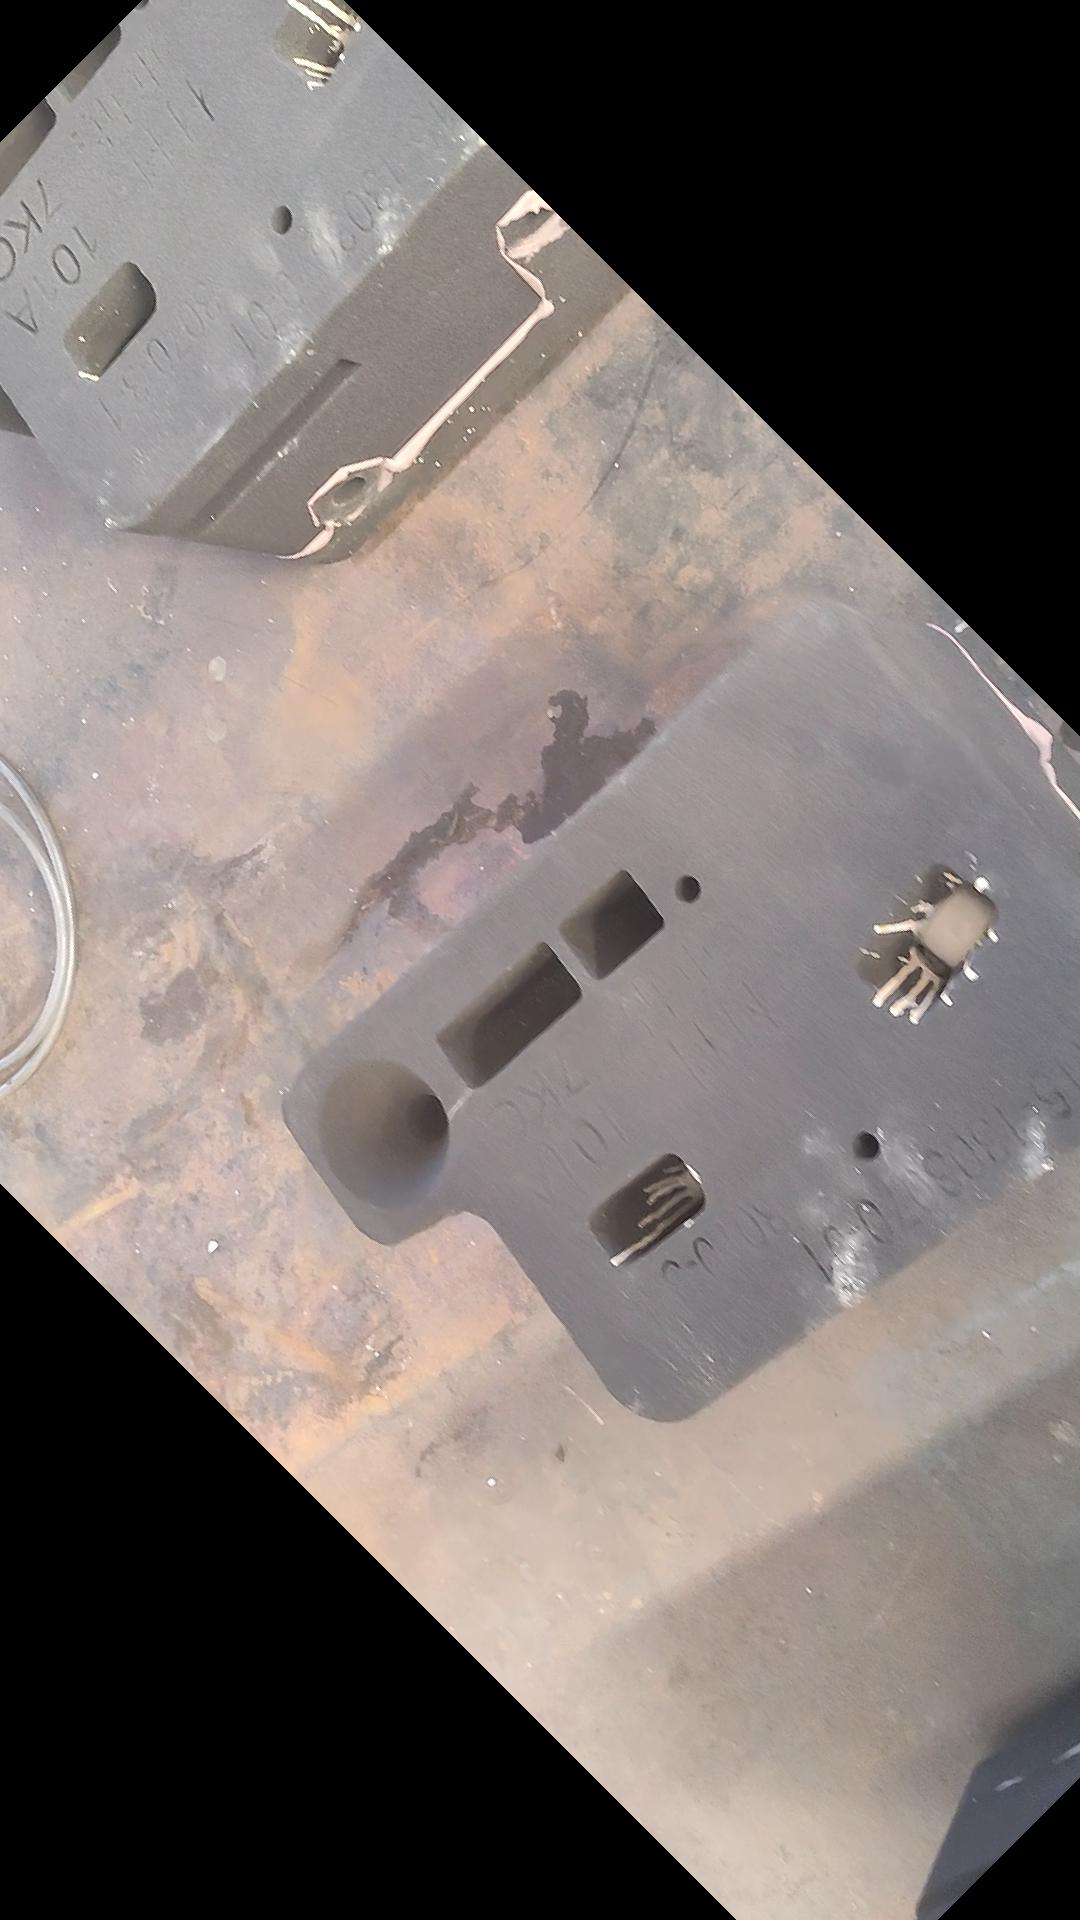pouring hole: (316, 1059, 450, 1213)
